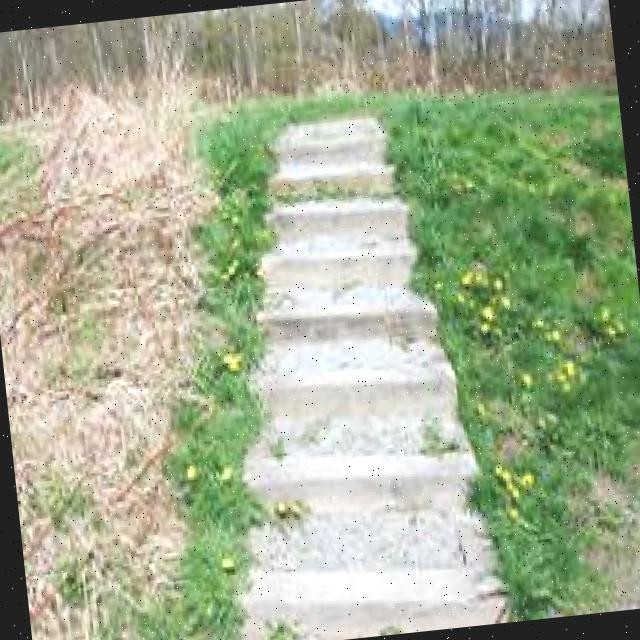stairs: (196, 73, 521, 640)
